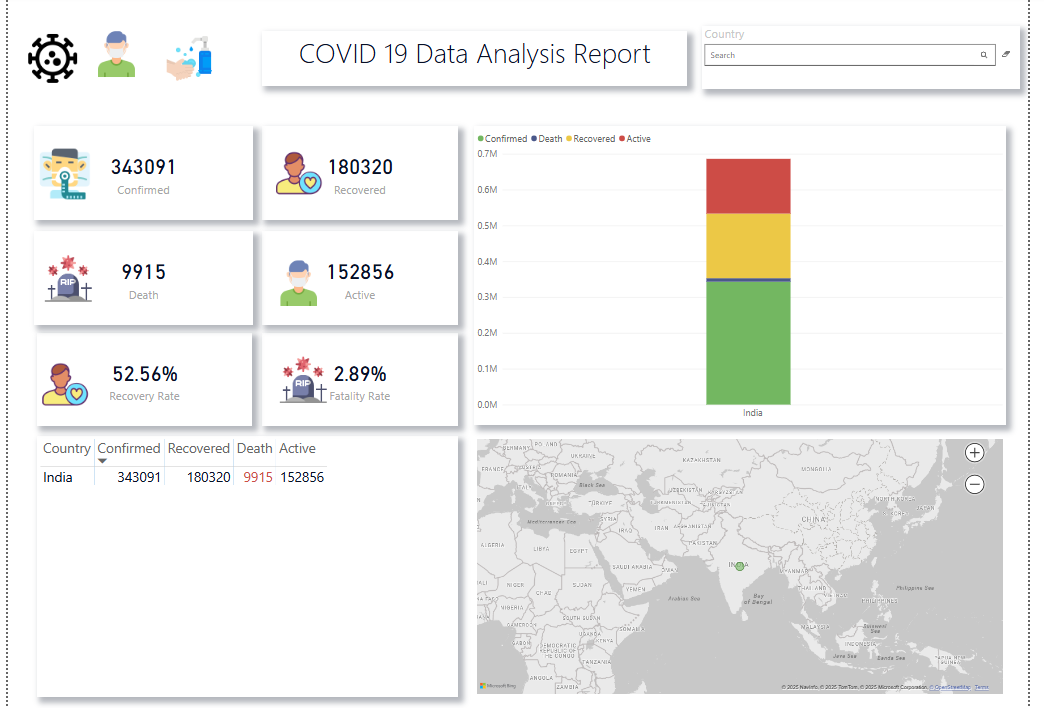

Layout of this report page (visuals, bound fields, positions):
{"tool":"powerbi","page":{"name":"DataAnalysis Covid","canvas":[1800,1300],"ordinal":0},"visuals":[{"type":"card","fields":{"Values":["Sum(countries.Recovered)"]},"box":[448.5,232.2,347.3,164.7],"z":0},{"type":"card","fields":{"Values":["Sum(countries.Death)"]},"box":[45.6,416.8,387,164.7],"z":1000},{"type":"image","box":[32,64,96,96],"z":2000},{"type":"image","box":[144,48,96,112],"z":3000},{"type":"image","box":[466.4,258,97.2,113.1],"z":4000},{"type":"image","box":[51.6,452.5,111.1,95.3],"z":5000},{"type":"image","box":[272,64,96,96],"z":6000},{"type":"textbox","box":[448,64,752,96],"z":7000},{"type":"card","fields":{"Values":["Sum(countries.Confirmed)"]},"box":[45.6,232.2,387,164.7],"z":8000},{"type":"image","box":[51.6,263.9,99.2,103.2],"z":9000},{"type":"card","fields":{"Values":["Sum(countries.Active)"]},"box":[448.5,416.8,347.3,164.7],"z":10000},{"type":"card","fields":{"Values":["countries.Recovery Rate"]},"box":[51.6,595.4,381,164.7],"z":11000},{"type":"card","fields":{"Values":["countries.Fatality Rate"]},"box":[448.5,595.4,347.3,164.7],"z":12000},{"type":"image","box":[466.4,631.1,111.1,95.3],"z":13000},{"type":"image","box":[466.4,452.5,95.3,113.1],"z":14000},{"type":"image","box":[53.6,631.1,97.2,113.1],"z":15000},{"type":"columnChart","fields":{"Category":["countries.Country"],"Y":["Sum(countries.Confirmed)","Sum(countries.Death)","Sum(countries.Recovered)","Sum(countries.Active)"]},"box":[823.6,232.2,938.7,527.9],"z":16000},{"type":"tableEx","fields":{"Values":["countries.Country","Sum(countries.Confirmed)","Sum(countries.Recovered)","Sum(countries.Death)","Sum(countries.Active)"]},"box":[51.6,779.9,744.2,460.4],"z":17000},{"type":"map","fields":{"Category":["countries.Country"],"Size":["Sum(countries.Confirmed)"]},"box":[823.6,779.9,938.7,460.4],"z":18000},{"type":"textFilter25A4896A83E0487089E2B90C9AE57C8A","fields":{"field":["countries.Country"]},"box":[1224.5,55.6,561.6,111.1],"z":19000}]}

Visuals, with their boxes on the page's 1800x1300 design canvas (x1, y1, x2, y2). These are canvas units, not pixel positions in the 1044x708 screenshot, which may show the page scaled, cropped or inside an application window:
card - Sum(countries.Recovered): [left=448, top=232, right=796, bottom=397]
card - Sum(countries.Death): [left=46, top=417, right=433, bottom=582]
image: [left=32, top=64, right=128, bottom=160]
image: [left=144, top=48, right=240, bottom=160]
image: [left=466, top=258, right=564, bottom=371]
image: [left=52, top=452, right=163, bottom=548]
image: [left=272, top=64, right=368, bottom=160]
textbox: [left=448, top=64, right=1200, bottom=160]
card - Sum(countries.Confirmed): [left=46, top=232, right=433, bottom=397]
image: [left=52, top=264, right=151, bottom=367]
card - Sum(countries.Active): [left=448, top=417, right=796, bottom=582]
card - countries.Recovery Rate: [left=52, top=595, right=433, bottom=760]
card - countries.Fatality Rate: [left=448, top=595, right=796, bottom=760]
image: [left=466, top=631, right=578, bottom=726]
image: [left=466, top=452, right=562, bottom=566]
image: [left=54, top=631, right=151, bottom=744]
columnChart - countries.Country x Sum(countries.Confirmed): [left=824, top=232, right=1762, bottom=760]
tableEx - countries.Country x Sum(countries.Confirmed): [left=52, top=780, right=796, bottom=1240]
map - countries.Country x Sum(countries.Confirmed): [left=824, top=780, right=1762, bottom=1240]
textFilter25A4896A83E0487089E2B90C9AE57C8A - countries.Country: [left=1224, top=56, right=1786, bottom=167]
